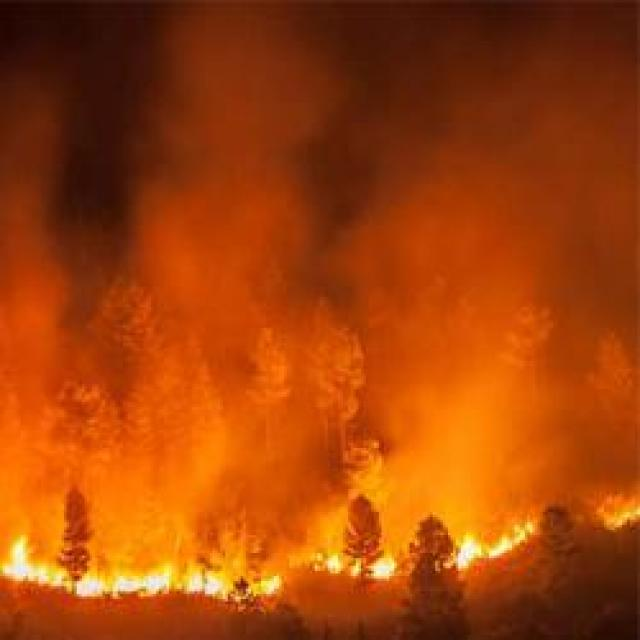fire: (8, 550, 51, 586), (116, 575, 173, 593), (458, 534, 476, 571), (78, 575, 100, 596), (191, 578, 219, 592), (262, 577, 280, 592), (377, 562, 390, 579)
smoke: (404, 16, 640, 172), (137, 117, 315, 283), (151, 7, 360, 134), (348, 147, 525, 278), (388, 375, 572, 490), (0, 59, 67, 315), (573, 53, 640, 298), (0, 320, 46, 497), (170, 417, 235, 484)
